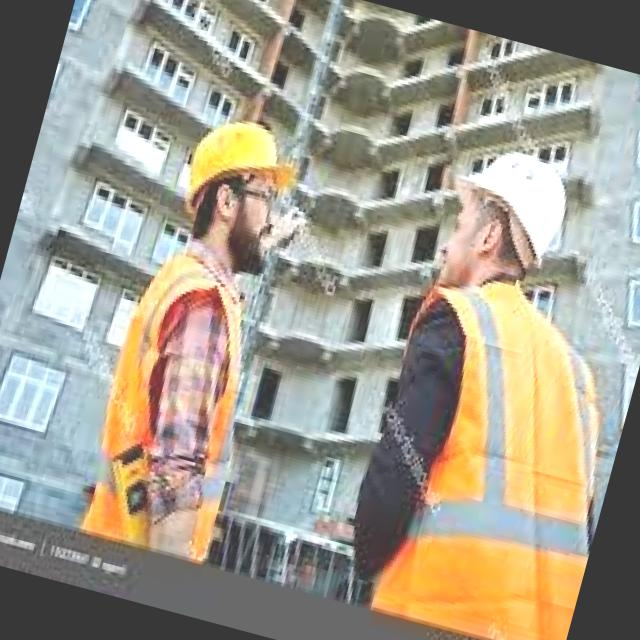helmet: (165, 90, 314, 238), (440, 132, 588, 273)
vest: (329, 262, 640, 640), (70, 242, 284, 554)
